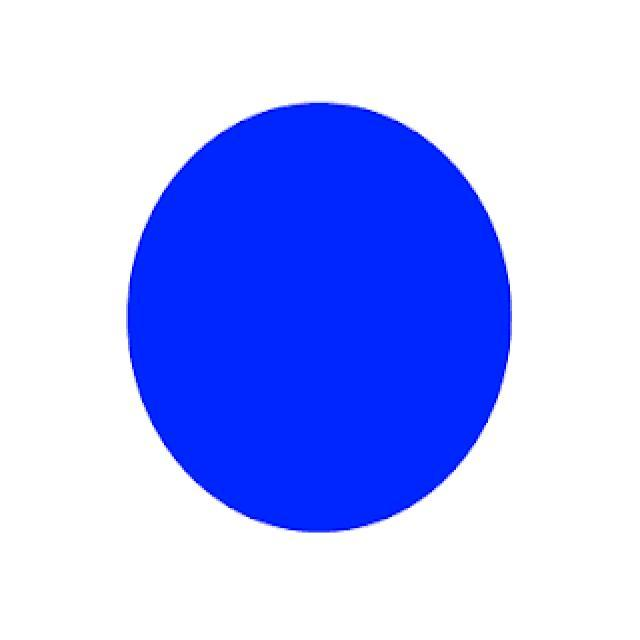Circle: (116, 92, 514, 540)
